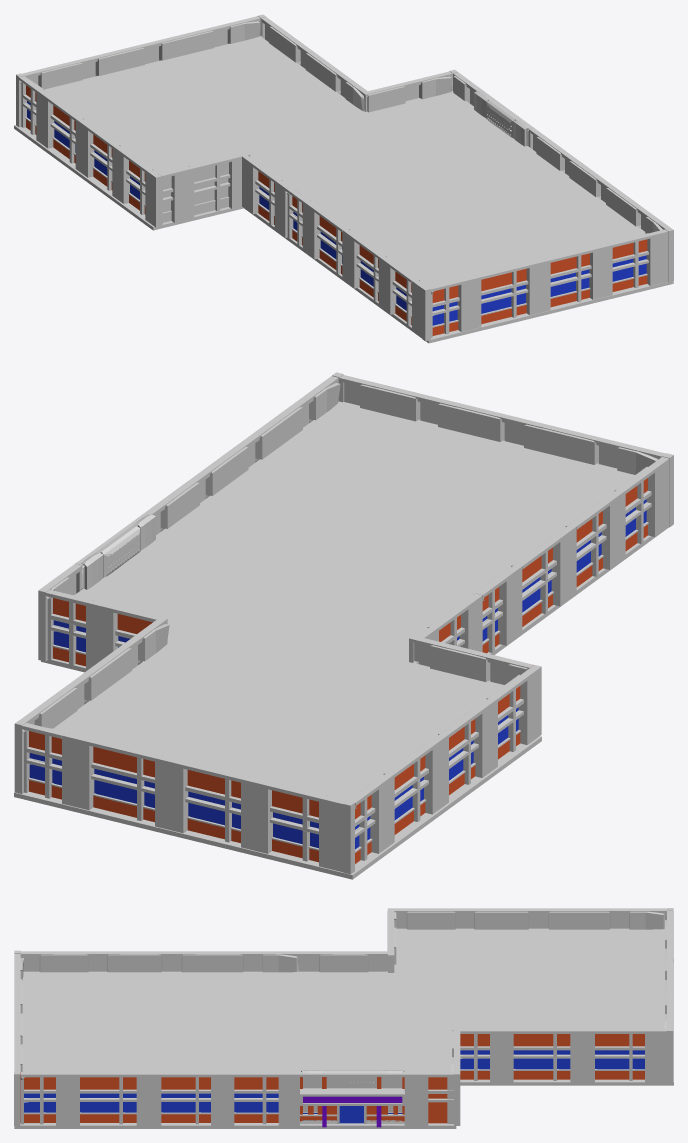
File: Workshop.fbx
3 renders of one model, top to bottom at view 1: azimuth 30°, elevation 25°; view 2: azimuth 150°, elevation 25°; view 3: azimuth 270°, elevation 25°, orthographic. The views are drawn at different scales.
Visible parts, largest first — view 1: Plane; view 2: Plane; view 3: Plane.
Part boxes in pixels (<box>): Plane: <box>14,14,673,343</box>; Plane: <box>14,372,673,879</box>; Plane: <box>14,908,673,1128</box>.
Bounding box in the file's own units: 1696 × 258 × 2784.
